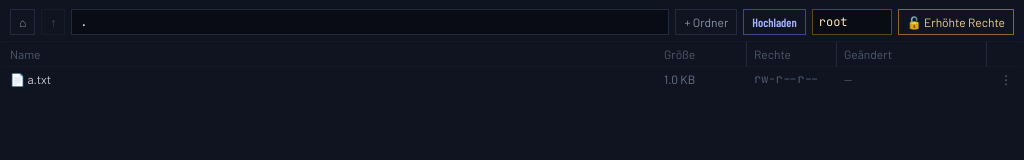
Test: FileBrowserPanel elevated mode (Spec 0067, A5) › can elevate to another user (A4) and names that user everywhere
Expected: the text "📄 a.txt" is shown, left=10, top=72, right=51, bottom=86
Replace the text in the field named "Ziel-Nutzer" with "www-data" at {"x": 852, "y": 22}, box left=812, top=8, right=892, bottom=34
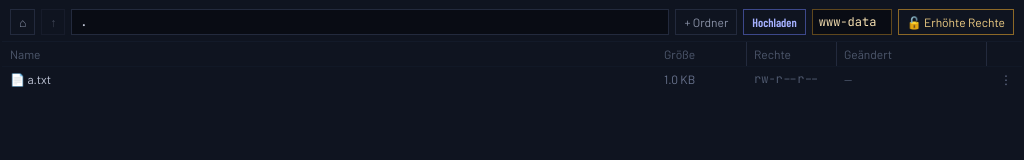
Click the button "🔓 Erhöhte Rechte" at {"x": 956, "y": 22}, box left=898, top=8, right=1014, bottom=34
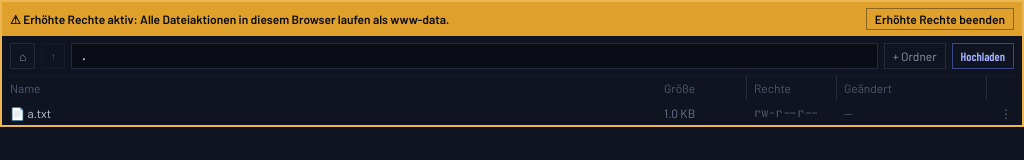
Expected: the message shows "www-data", left=23, top=12, right=449, bottom=26
